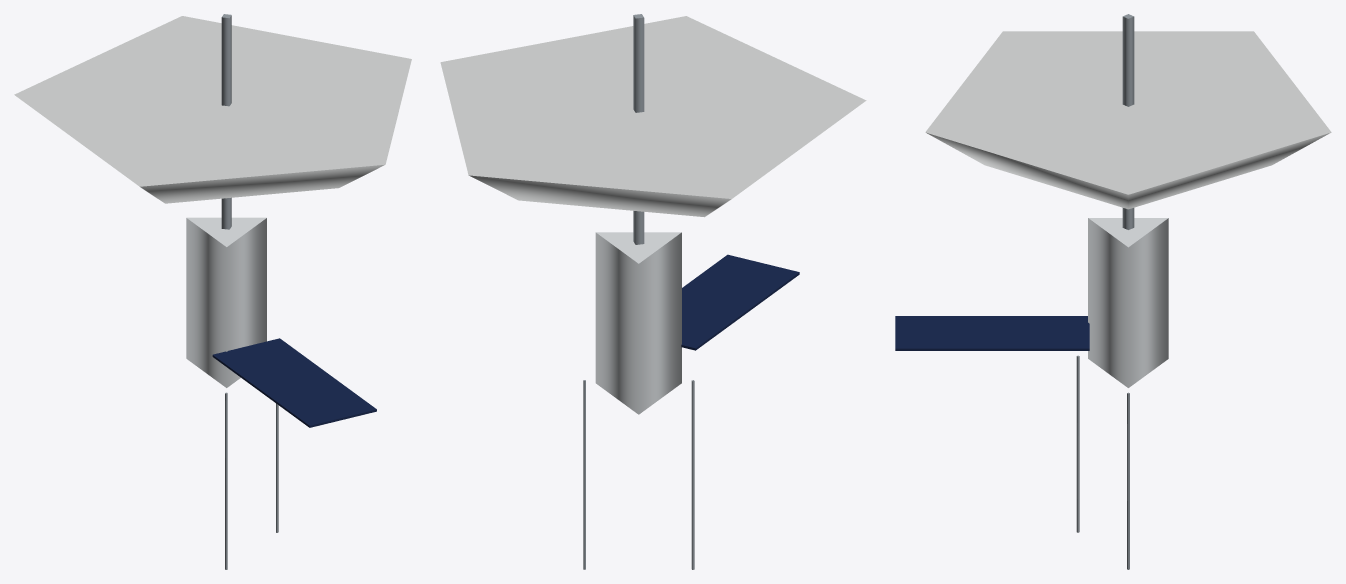
Rendered from space_orbital_radar_t1_lod2.glb.
The picture shows the model from 3 angles, left to right: view 1: azimuth 30°, elevation 25°; view 2: azimuth 150°, elevation 25°; view 3: azimuth 270°, elevation 25°; orthographic projection. The views are drawn at different scales.
Visible parts, largest first — view 1: dish, body, solar_0; view 2: dish, body, solar_0; view 3: dish, body, solar_0.
Part boxes in pixels (<box>): dish: <box>14,14,411,229</box>; body: <box>186,217,278,569</box>; solar_0: <box>212,338,376,427</box>; dish: <box>440,14,866,244</box>; body: <box>583,232,694,569</box>; solar_0: <box>681,254,799,350</box>; dish: <box>925,14,1331,229</box>; body: <box>1076,218,1168,569</box>; solar_0: <box>895,316,1089,350</box>.
Size of the model in its own units: 9.95 by 15 by 11.23.
